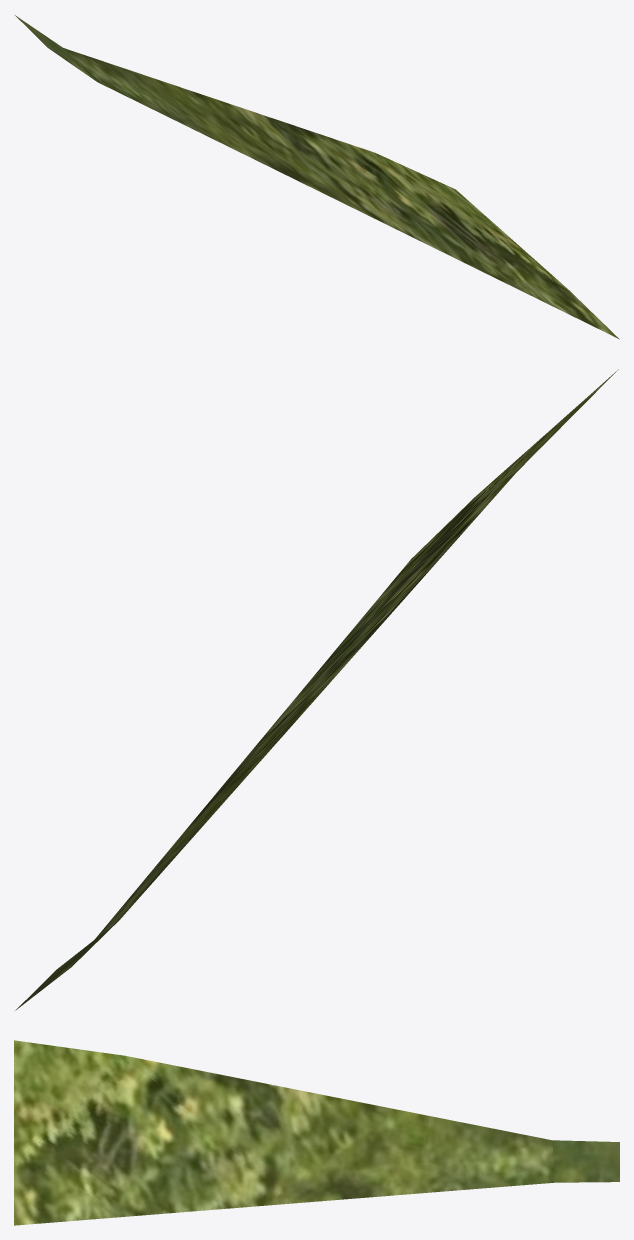
3 views of the same model, one above another, from view 1: azimuth 30°, elevation 25°; view 2: azimuth 150°, elevation 25°; view 3: azimuth 270°, elevation 25° (orthographic). The views are drawn at different scales.
Size of the model in its own units: 0.6326 by 0.7003 by 2.95.
Materials: 1 (1 with a texture image).
